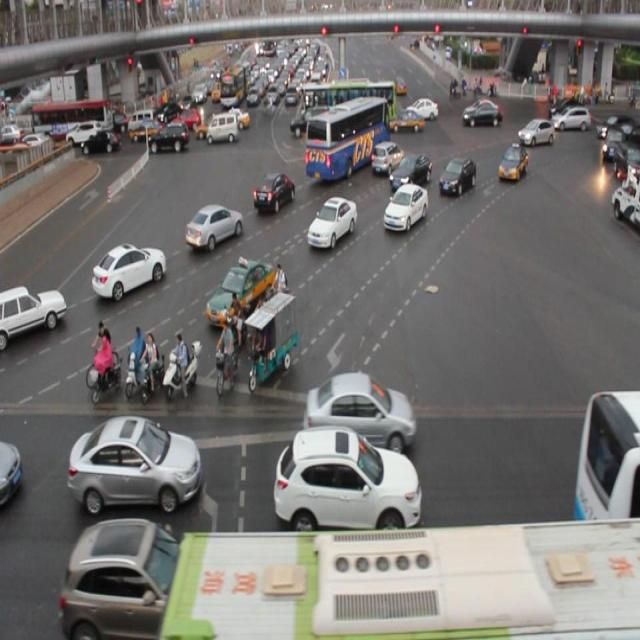car: (61, 520, 203, 633), (274, 426, 421, 530), (66, 410, 202, 512), (303, 372, 415, 449), (206, 254, 277, 330), (93, 240, 166, 304), (1, 280, 67, 348), (608, 396, 640, 511), (184, 199, 244, 250), (304, 196, 356, 250), (382, 182, 429, 235), (251, 172, 295, 216), (388, 150, 432, 189), (438, 156, 473, 196), (515, 116, 554, 147), (496, 142, 525, 182), (370, 141, 402, 173)
van: (164, 522, 640, 640), (572, 388, 640, 536), (306, 98, 388, 183)
